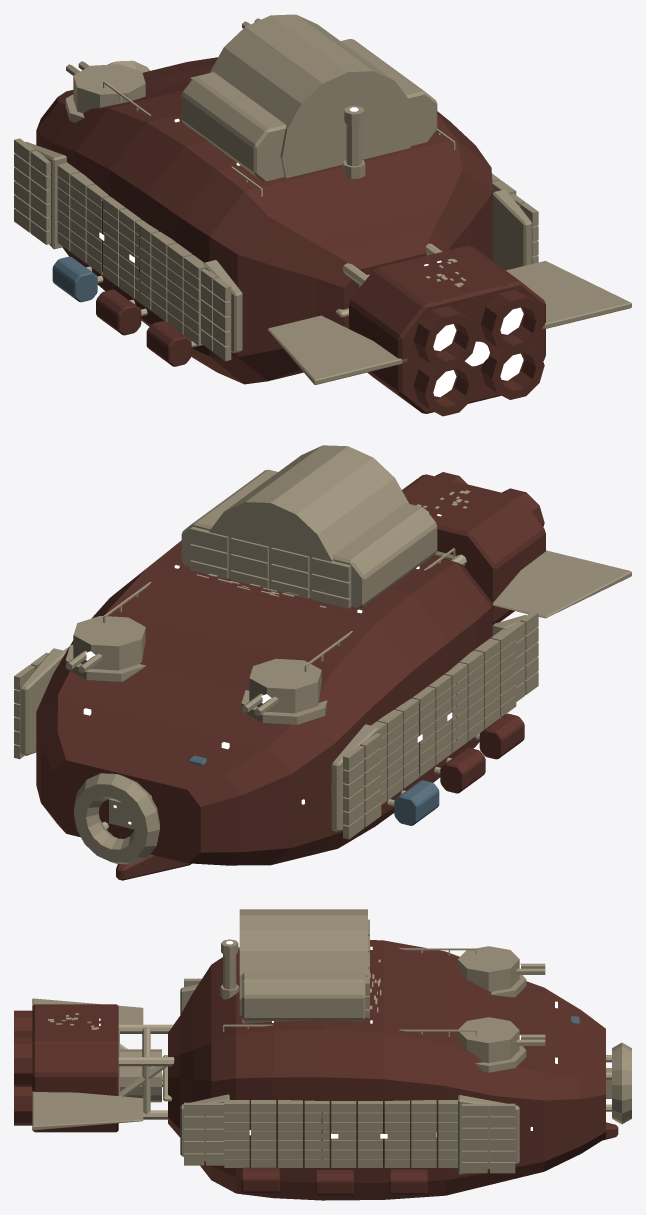
The picture shows the model from 3 angles, top to bottom: view 1: azimuth 30°, elevation 25°; view 2: azimuth 150°, elevation 25°; view 3: azimuth 270°, elevation 25°; orthographic projection. The views are drawn at different scales.
Visible parts, largest first — view 1: RIMWARD_HULL, RIMWARD_EMISSIVE; view 2: RIMWARD_HULL; view 3: RIMWARD_HULL.
Boxes of the visible parts, x1,y1,x2,y2 form: RIMWARD_HULL: (14,14,631,416); RIMWARD_EMISSIVE: (99,107,523,397); RIMWARD_HULL: (14,445,631,880); RIMWARD_HULL: (14,909,631,1200).
Size of the model in its own units: 9.68 by 7.41 by 17.04.
